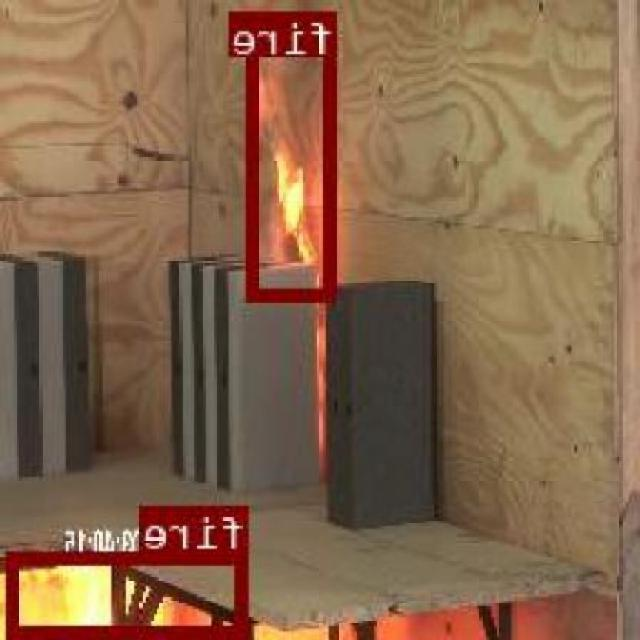Fire: (250, 9, 338, 297), (11, 549, 250, 634)
